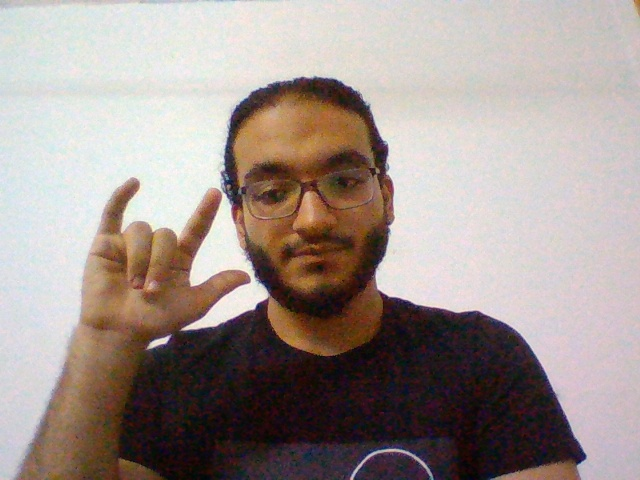I Love Yoy: (73, 172, 254, 332)
